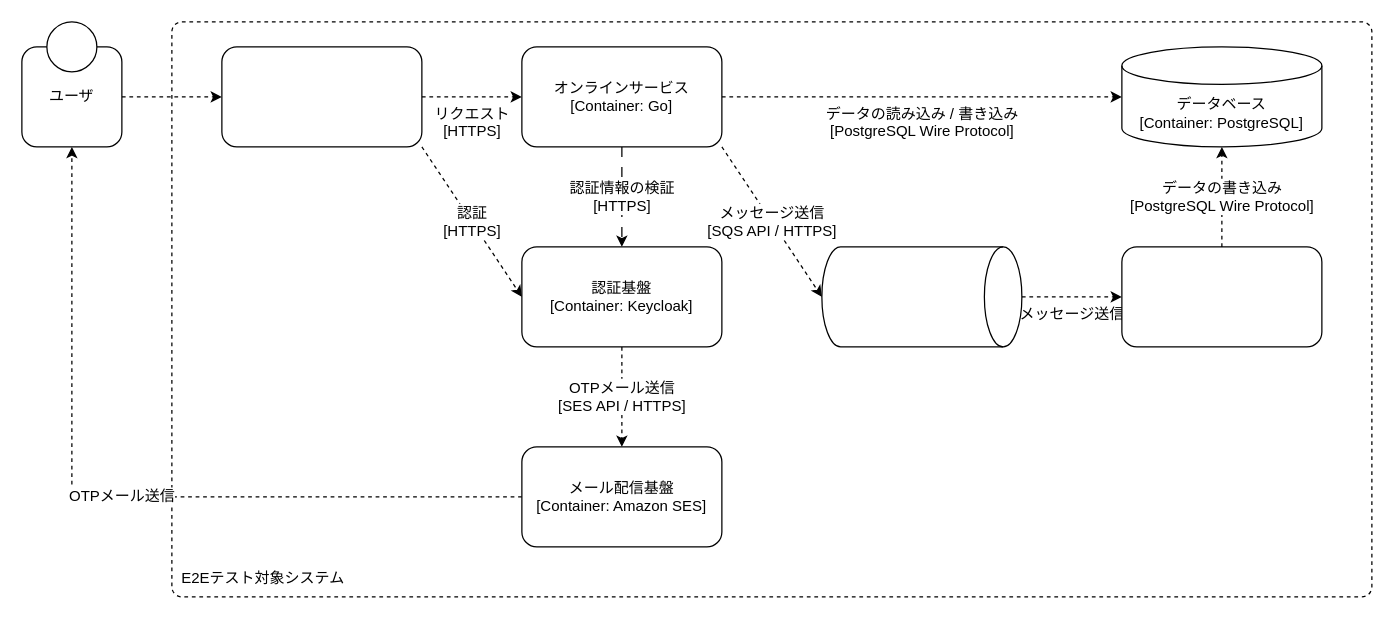
Some shapes in this 1394 by 619 pixel diagram are drawn without their labels. The box of each missing label's shape, as (x1, y1, x2, y2) in pixels:
フロントエンド [Container: JavaScript]: (221, 46, 422, 147)
メッセージング [Container: SQS]: (821, 246, 1022, 347)
非同期サービス [Container: Go]: (1121, 246, 1322, 347)
